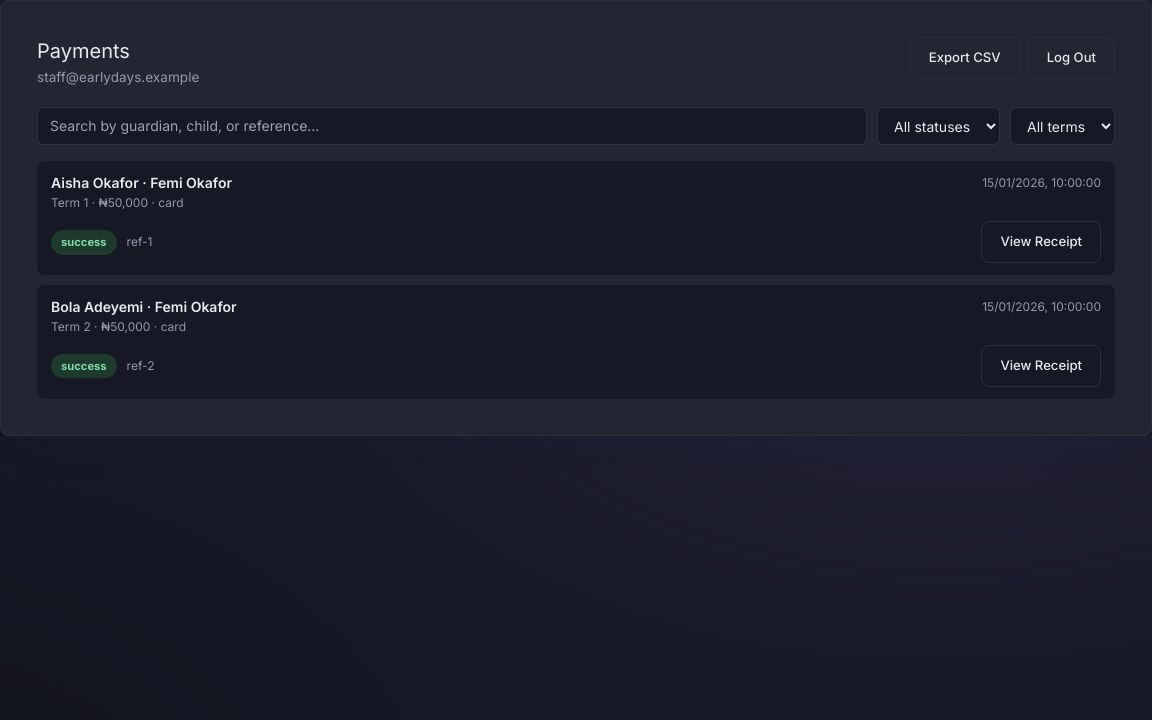
Test: AdminPaymentsList › narrows the list by the term filter
Expected: the text "Aisha Okafor · Femi Okafor" is shown, [51,173,232,193]
Select "Term 2" in the dropdown named "Filter by term": (1062, 126) [1010,107,1115,145]
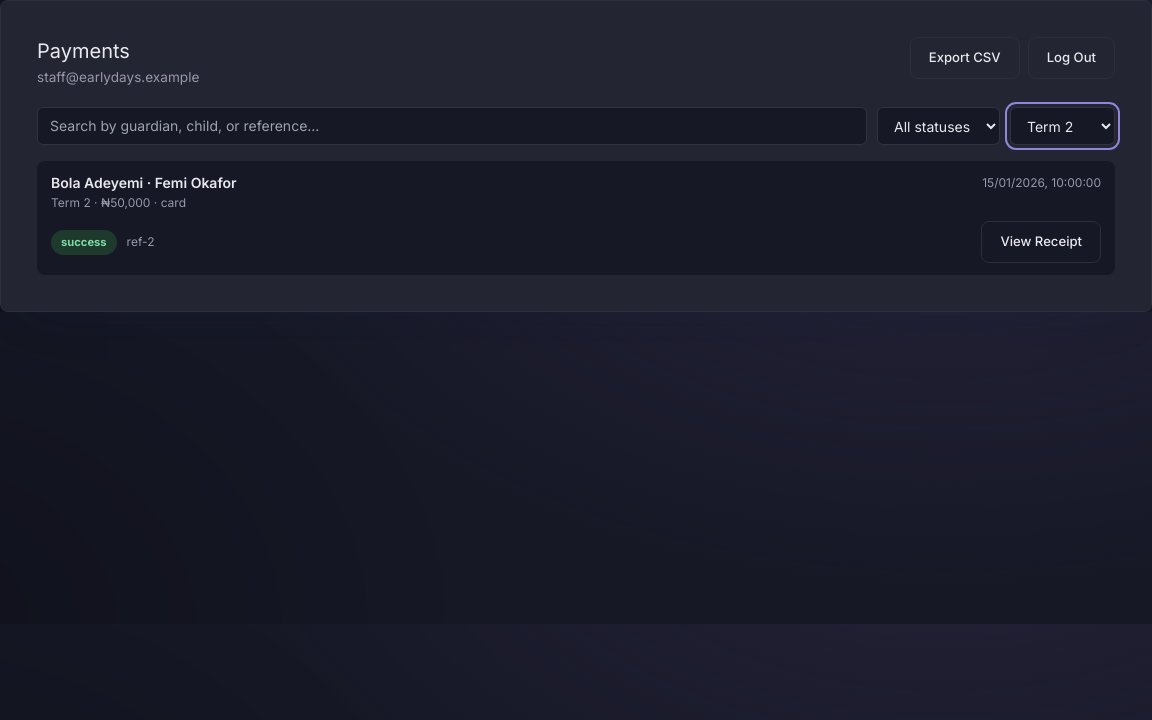
Expected: the text "Bola Adeyemi · Femi Okafor" is shown, [51,173,237,193]
Now the text "Aisha Okafor · Femi Okafor" is gone
